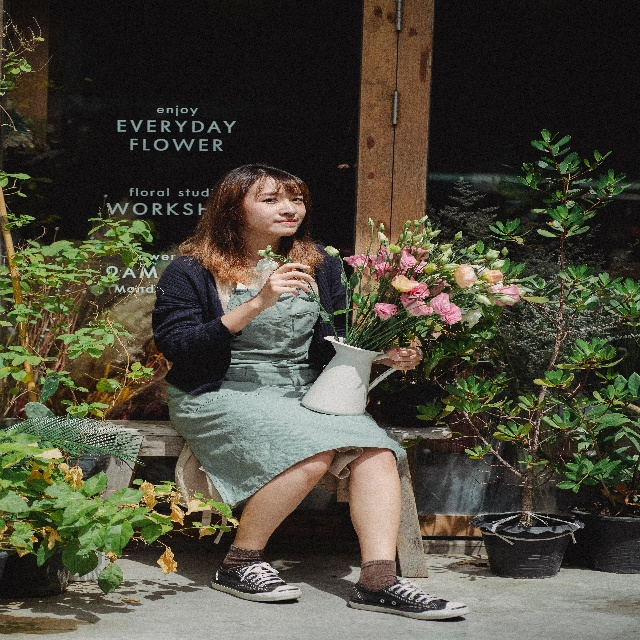Sin_guantes: (261, 256, 317, 305), (385, 344, 421, 373)
